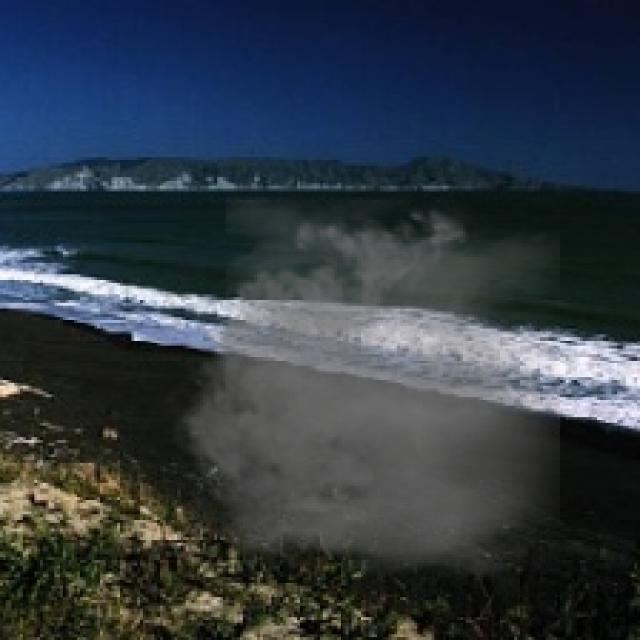Smoke: (160, 197, 560, 577)
